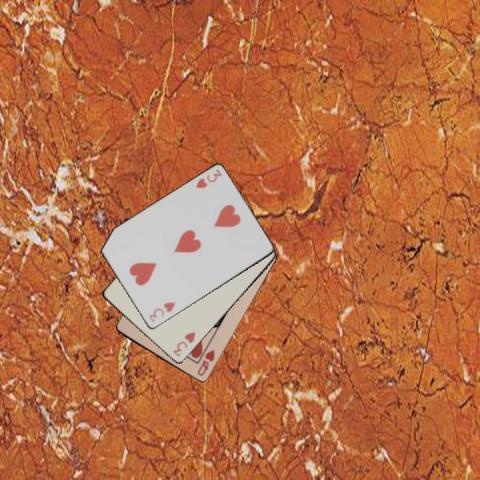3h: (170, 329, 197, 358), (146, 300, 177, 324), (192, 167, 222, 190)
Qh: (195, 347, 216, 378)
